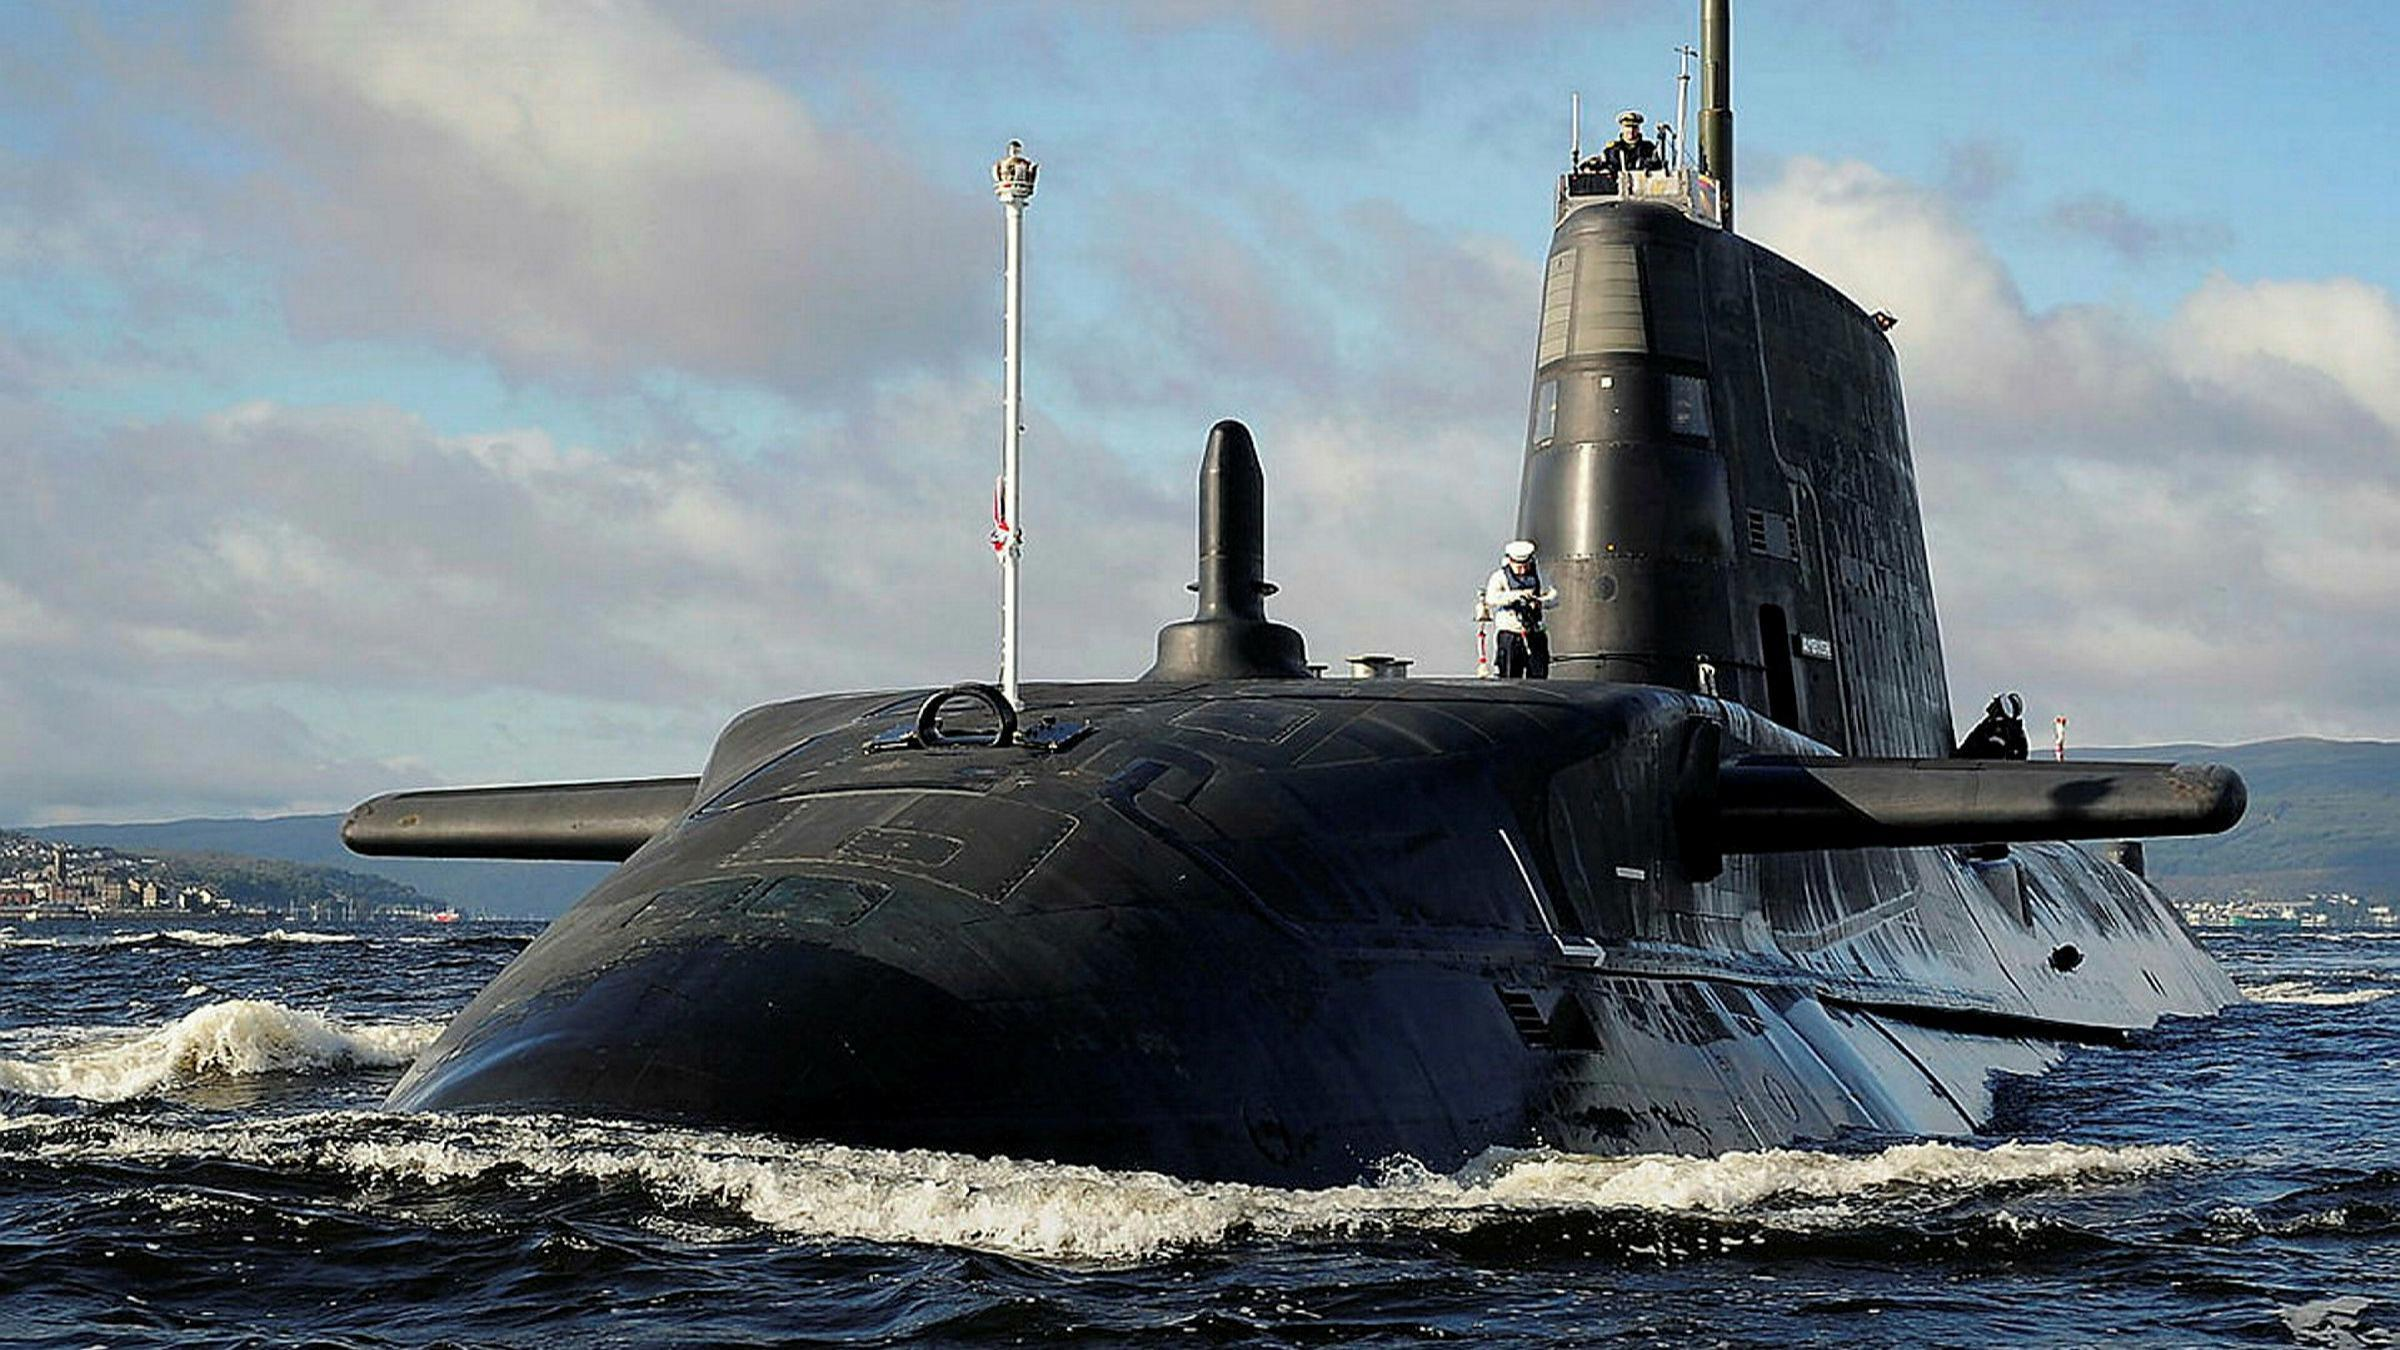Submarine: (163, 16, 2400, 1350)
